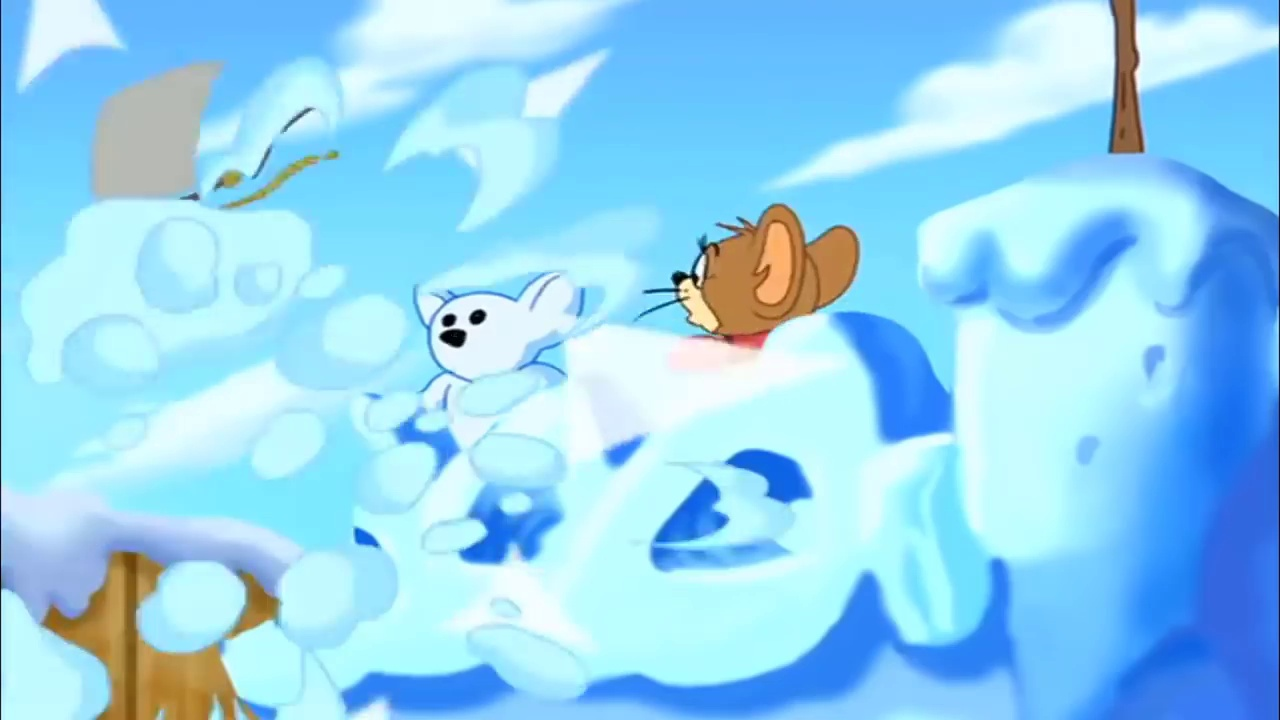face: (672, 233, 743, 333)
